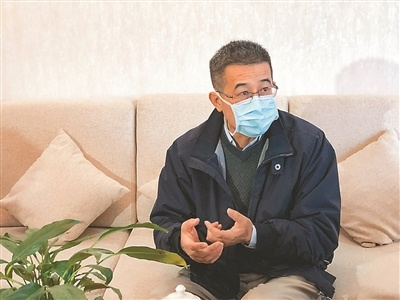correctlyWear: (208, 74, 279, 137)
